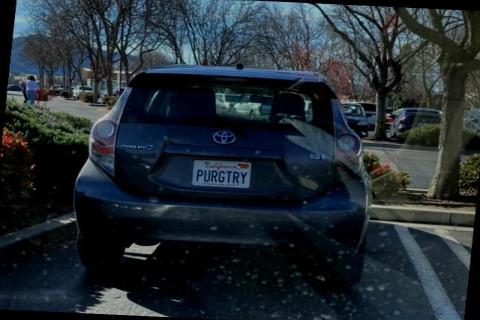LicensePlate: (190, 158, 251, 188)
